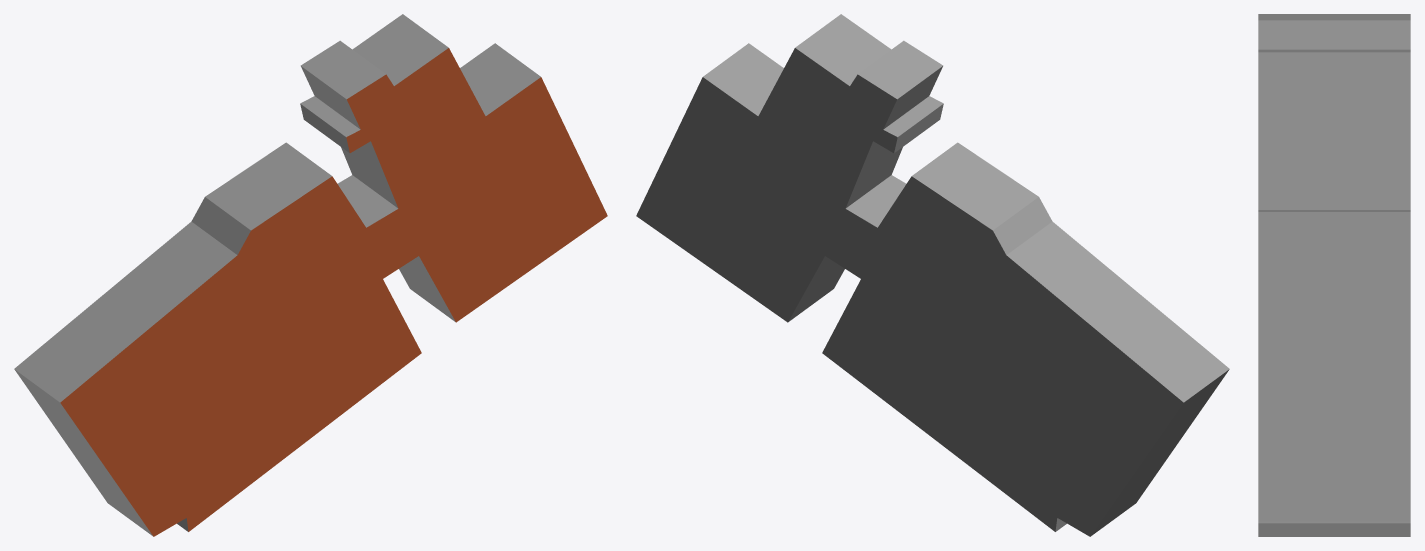
The model's file is construction_3454_assumed_A_Casa_h6m.obj.
3 views of the same model, side by side, from view 1: azimuth 30°, elevation 25°; view 2: azimuth 150°, elevation 25°; view 3: azimuth 270°, elevation 25° (orthographic). The views are drawn at different scales.
Parts seen in each view (by area): view 1: construction_3454_assumed_A_Casa; view 2: construction_3454_assumed_A_Casa; view 3: construction_3454_assumed_A_Casa.
Part boxes in pixels (x1,y1,x2,y2): construction_3454_assumed_A_Casa: (14,14,607,536); construction_3454_assumed_A_Casa: (636,14,1229,536); construction_3454_assumed_A_Casa: (1258,14,1410,536).
Bounding box in the file's own units: 41.13 × 30.21 × 6.
